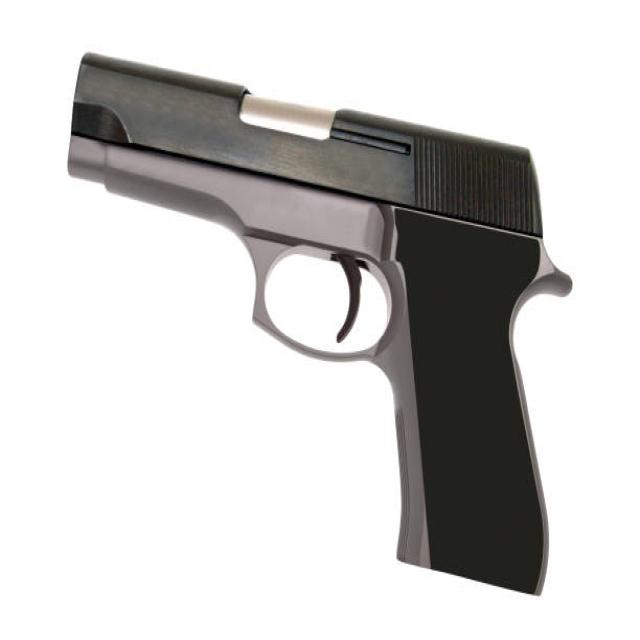pistol: (62, 53, 580, 604)
